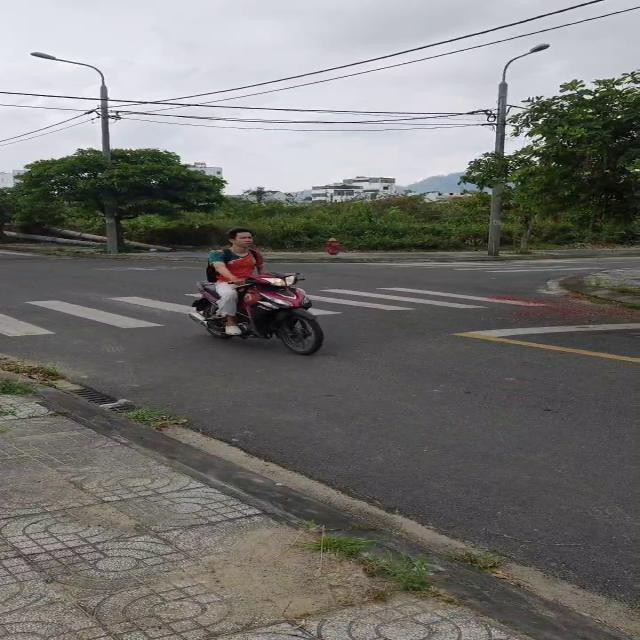no_helmet: (227, 228, 254, 240)
